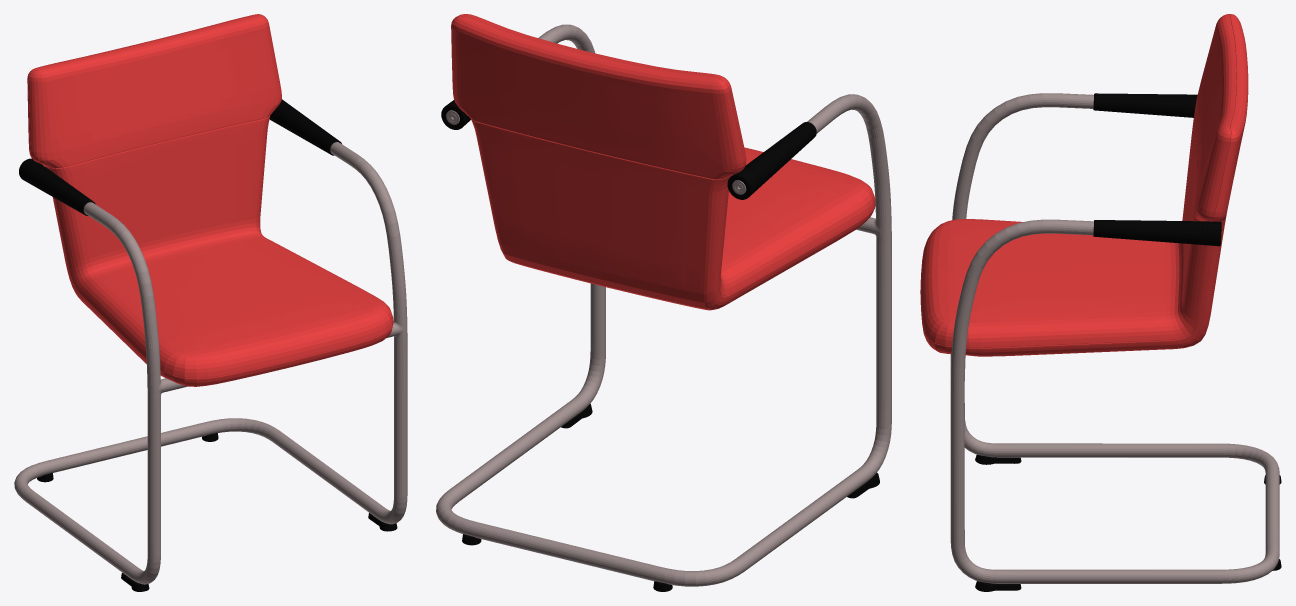
Rendered from chair2.fbx.
3 renders of one model, left to right at view 1: azimuth 30°, elevation 25°; view 2: azimuth 150°, elevation 25°; view 3: azimuth 270°, elevation 25°, orthographic. The views are drawn at different scales.
Visible parts, largest first — view 1: chari; view 2: chari; view 3: chari.
Part boxes in pixels (x1=…): chari: x1=14, y1=14, x2=407, y2=591; chari: x1=436, y1=14, x2=891, y2=591; chari: x1=920, y1=14, x2=1281, y2=591.
Size of the model in its own units: 54.38 by 83.93 by 60.53.
